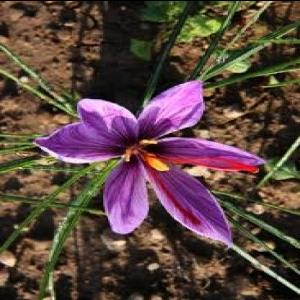Saffron: (35, 79, 265, 241)
